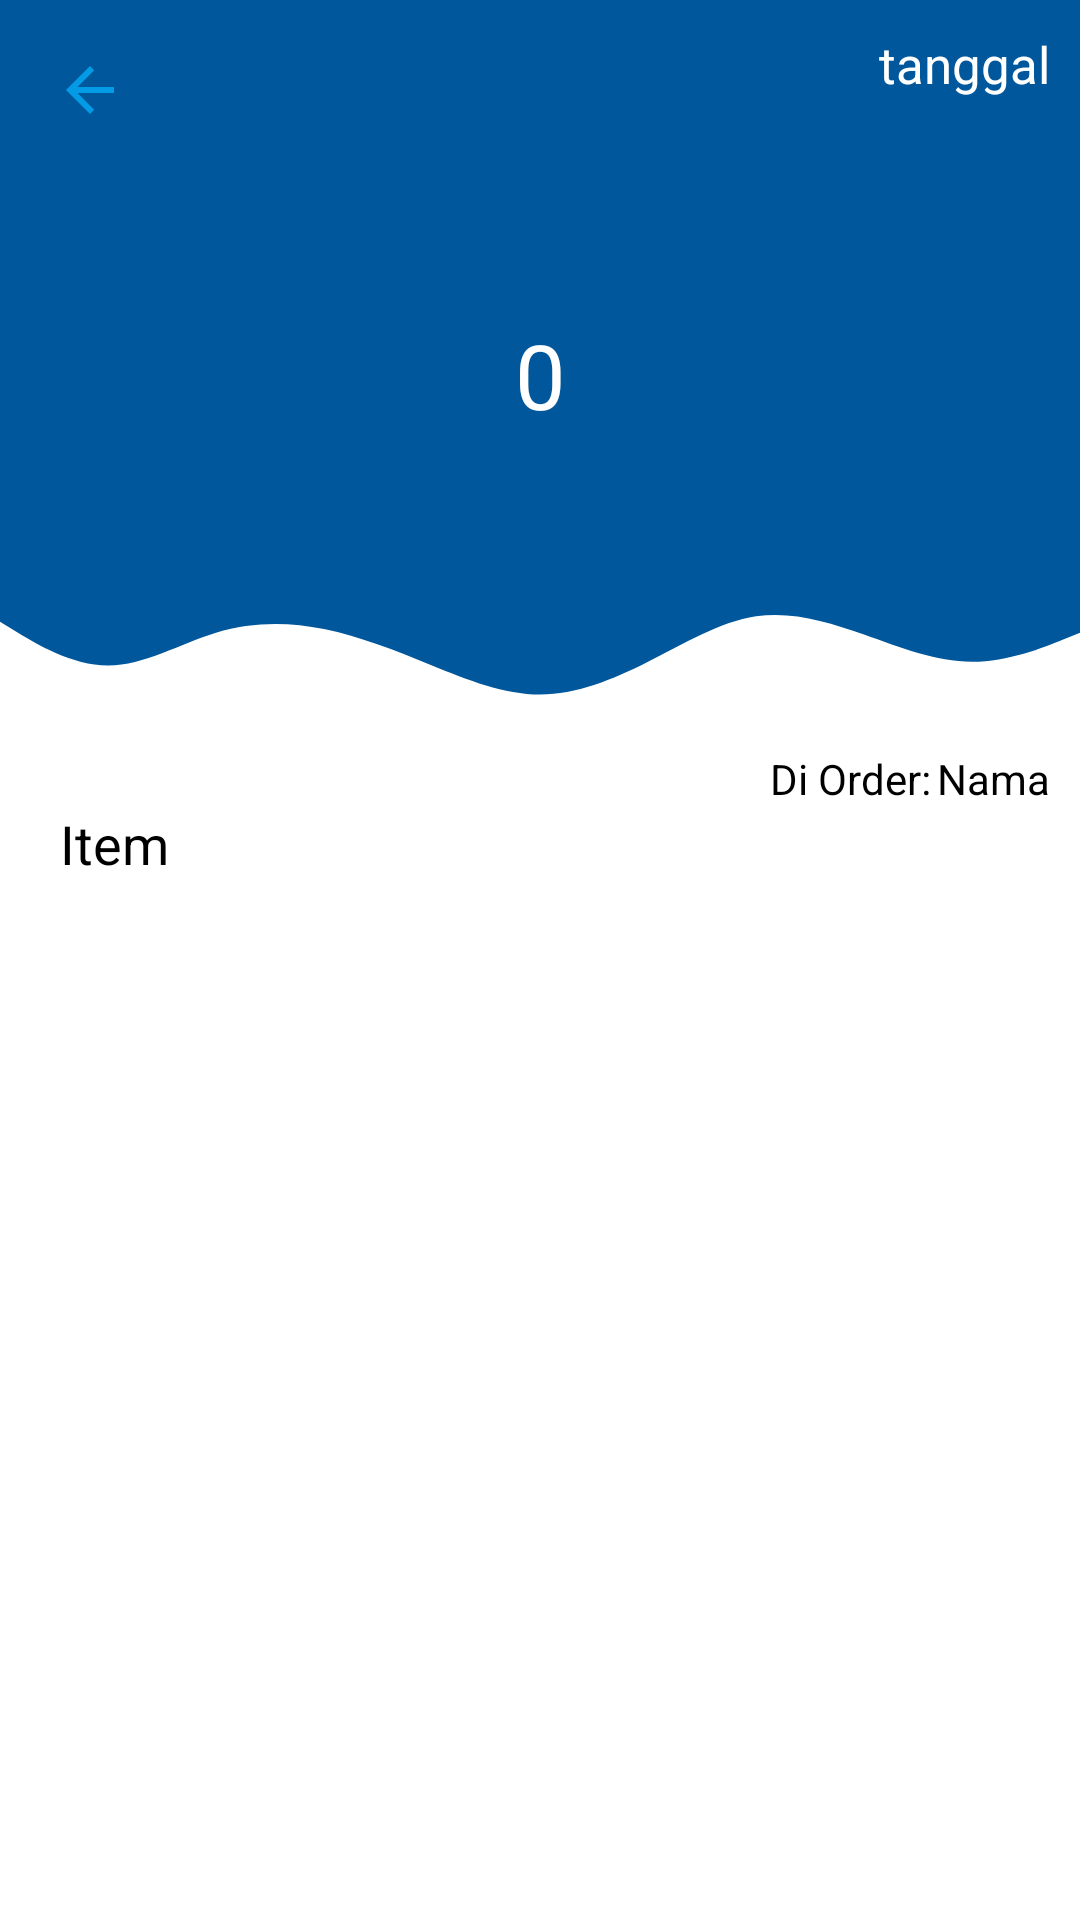

Icons on this 1080x1920 Android screen, each with the point to tap as (x=x, y=y):
arrow back for frag: (x=90, y=90)
